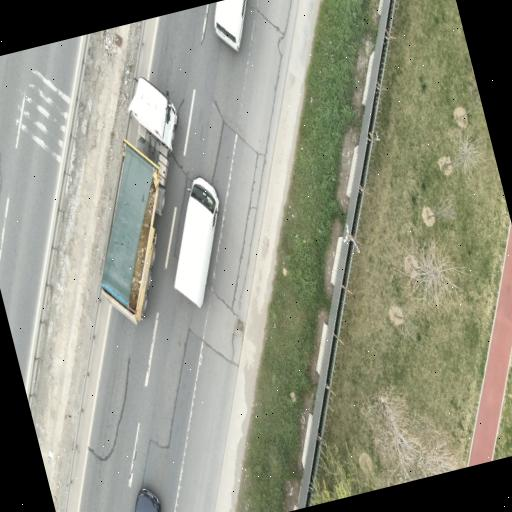car: (215, 0, 246, 51), (135, 489, 161, 511)
truck: (102, 78, 177, 323), (175, 177, 219, 307)
